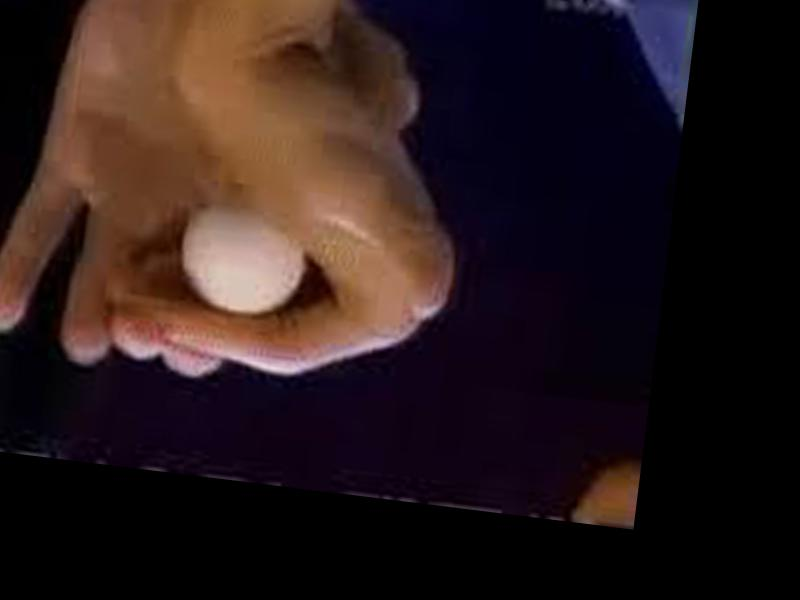Eggs: (172, 210, 313, 323)
